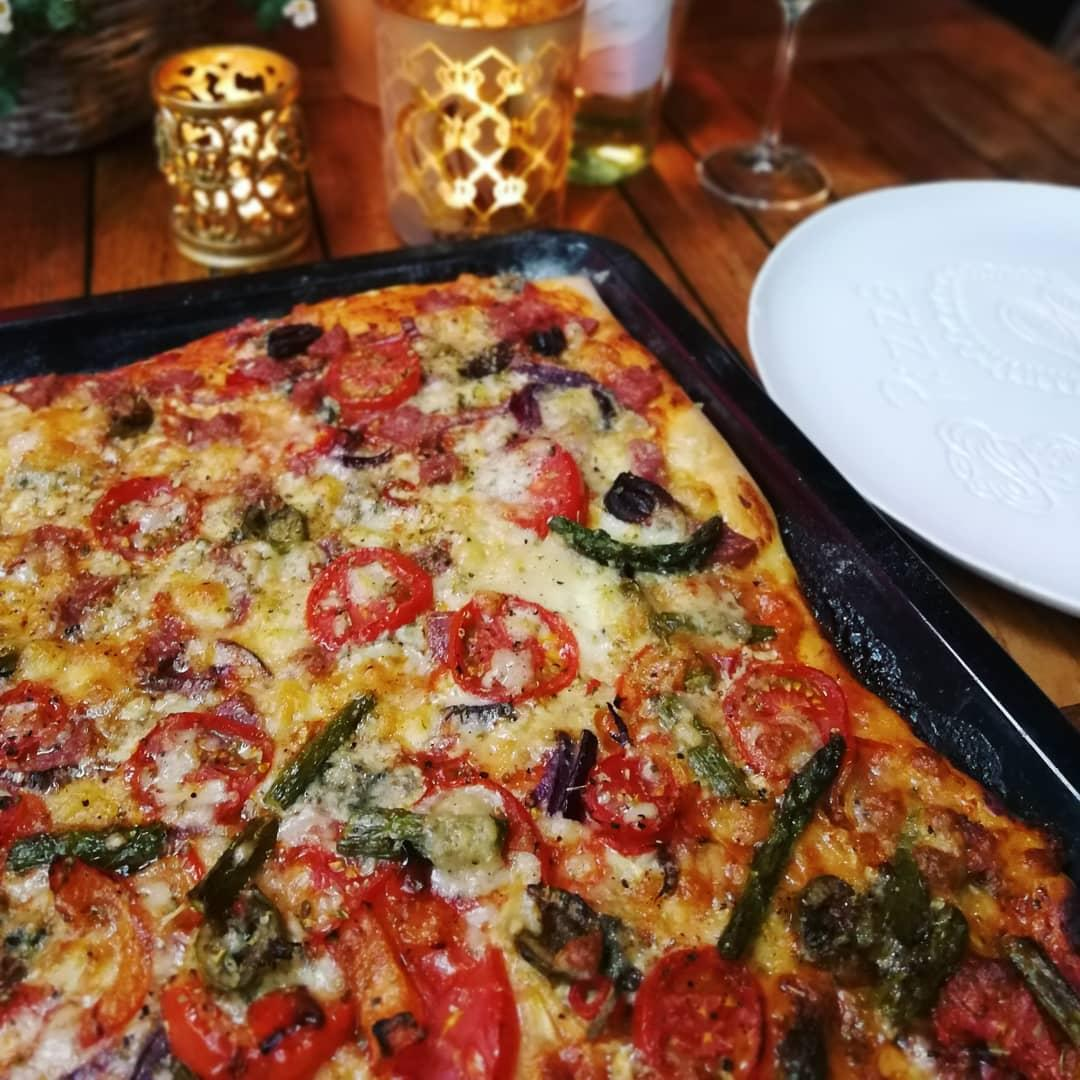Arugula: (203, 688, 371, 924), (733, 740, 849, 942), (860, 860, 969, 1000), (556, 498, 733, 576), (461, 326, 571, 389), (8, 830, 181, 868)
Broccoli: (330, 778, 501, 866), (638, 683, 737, 792)
Pizza: (0, 283, 1080, 1080)
Tomatoes: (351, 961, 529, 1080), (278, 843, 461, 956), (927, 949, 1071, 1080), (153, 983, 353, 1072), (46, 871, 151, 1030), (123, 703, 265, 820), (641, 948, 765, 1080), (613, 623, 743, 746), (438, 583, 575, 696), (6, 680, 93, 830), (298, 548, 433, 644), (713, 668, 839, 766), (493, 426, 591, 542), (311, 410, 465, 479), (580, 746, 681, 846), (83, 476, 203, 552), (318, 341, 425, 421), (146, 568, 257, 644), (198, 353, 309, 413)
